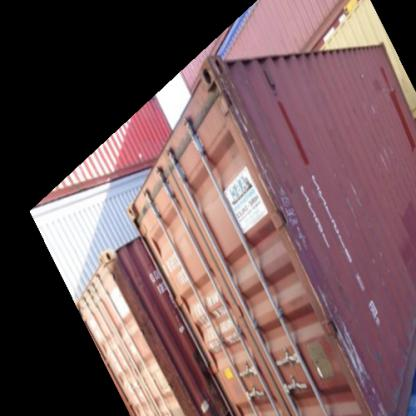Damage: (327, 310, 374, 393), (338, 173, 370, 213), (371, 142, 400, 177), (230, 95, 252, 139), (213, 62, 243, 90), (360, 245, 388, 270), (366, 86, 382, 119)
